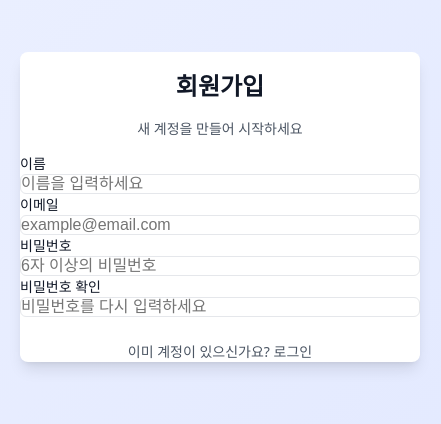
Test: Register 페이지 › 폼 유효성 검증 › 빈 이름으로 제출하면 에러가 표시된다
This screenshot has width=441, height=424.
Click the button "회원가입" at [220, 329], box [20, 317, 420, 341]
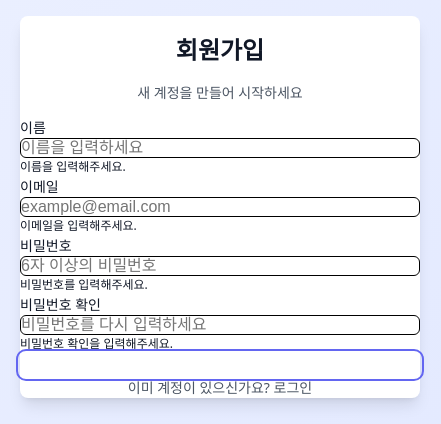
Check: the text "이름을 입력해주세요." is shown, box [20, 158, 126, 175]
